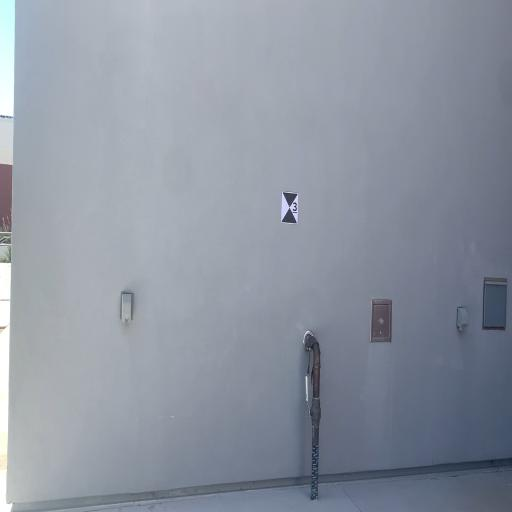target3: (281, 190, 298, 225)
